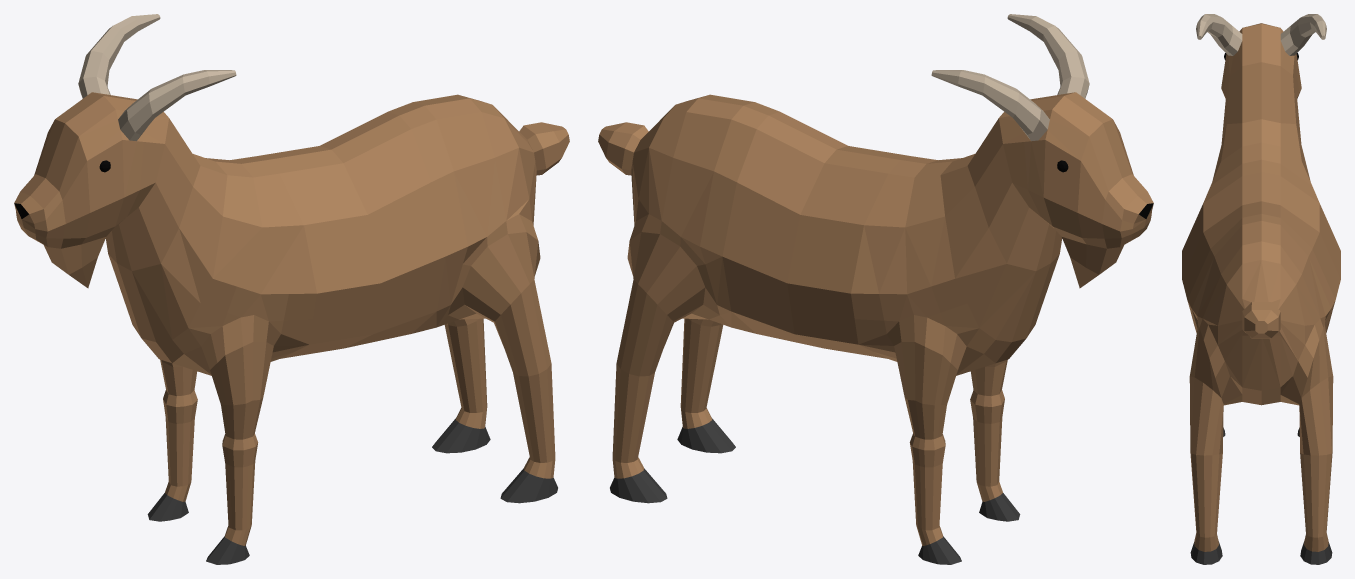
The model's file is Extra_Goat.glb.
3 renders of one model, left to right at view 1: azimuth 30°, elevation 25°; view 2: azimuth 150°, elevation 25°; view 3: azimuth 270°, elevation 25°, orthographic. The views are drawn at different scales.
Visible parts, largest first — view 1: Plane; view 2: Plane; view 3: Plane.
Part boxes in pixels (<box>): Plane: <box>14,14,569,564</box>; Plane: <box>598,14,1153,564</box>; Plane: <box>1182,14,1340,564</box>.
Size of the model in its own units: 7.97 by 7.03 by 2.49.
